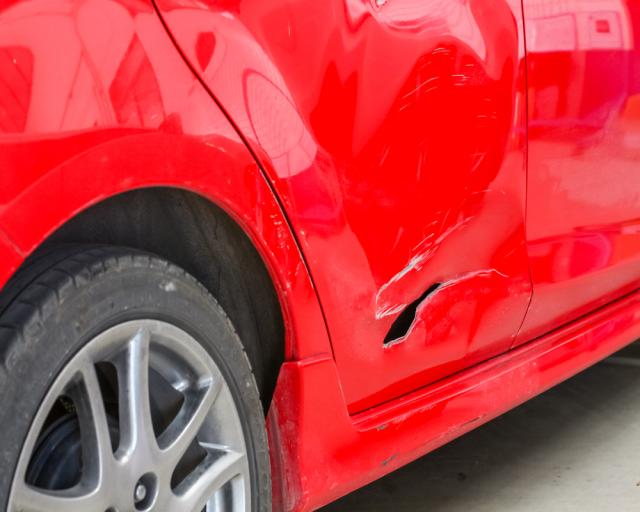crack: (382, 280, 442, 346)
dent: (349, 0, 524, 354)
scratch: (361, 386, 496, 467)
